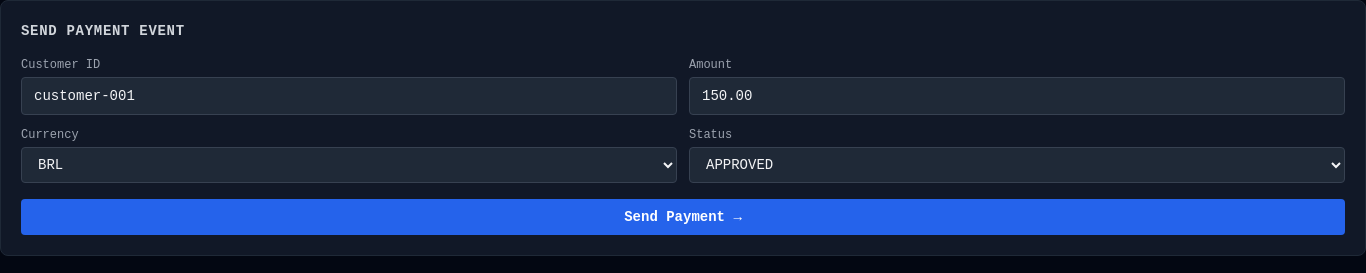
it: PaymentForm › disables the submit button while loading
Step 1. Click the button "Send Payment →" → click(683, 217), box [21,199,1345,235]
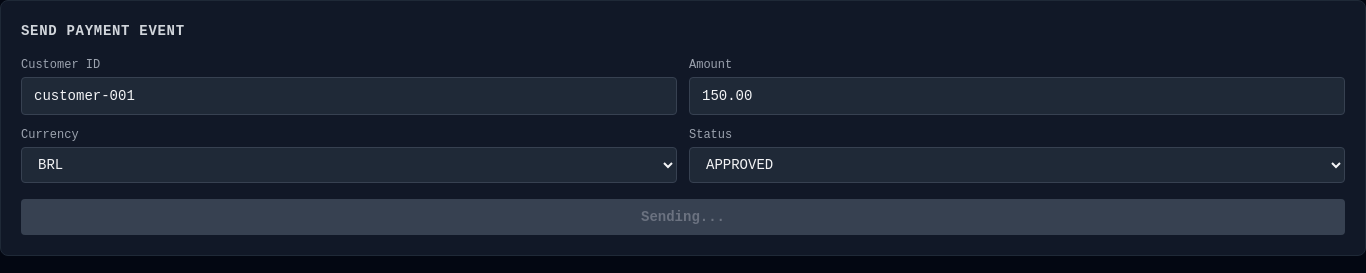
Result: the button "Sending..." is disabled at [21,199,1345,235]
